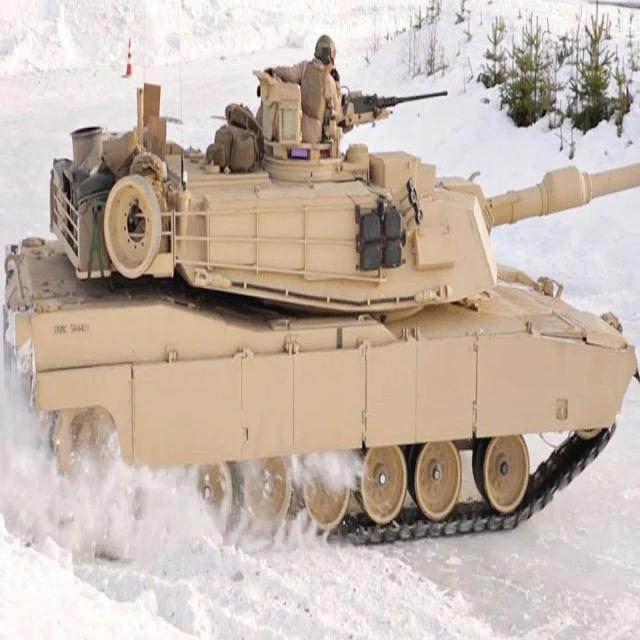Tanks: (3, 63, 635, 533)
